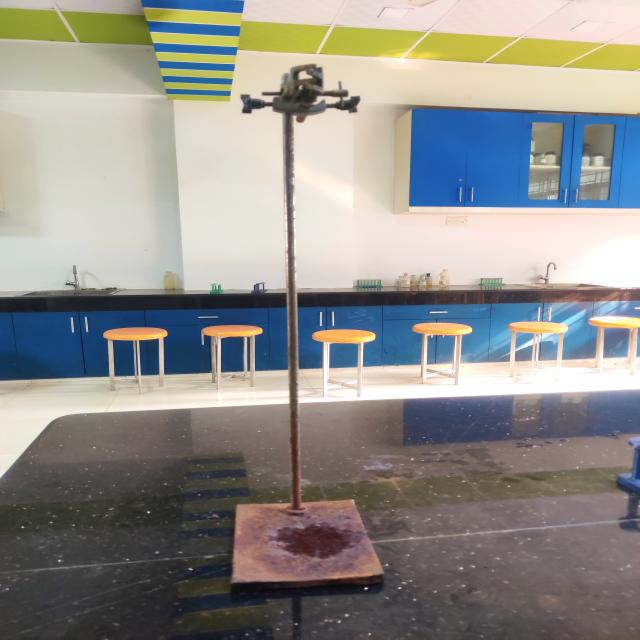Burette_Stands: (212, 52, 422, 615)
